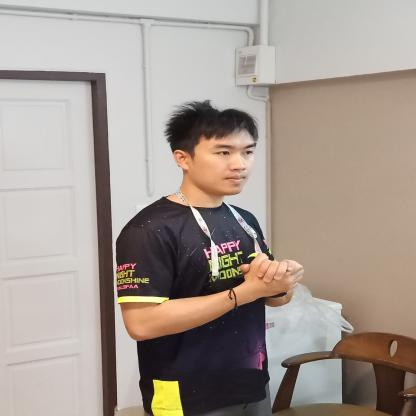Grieve: (135, 217, 347, 311)
